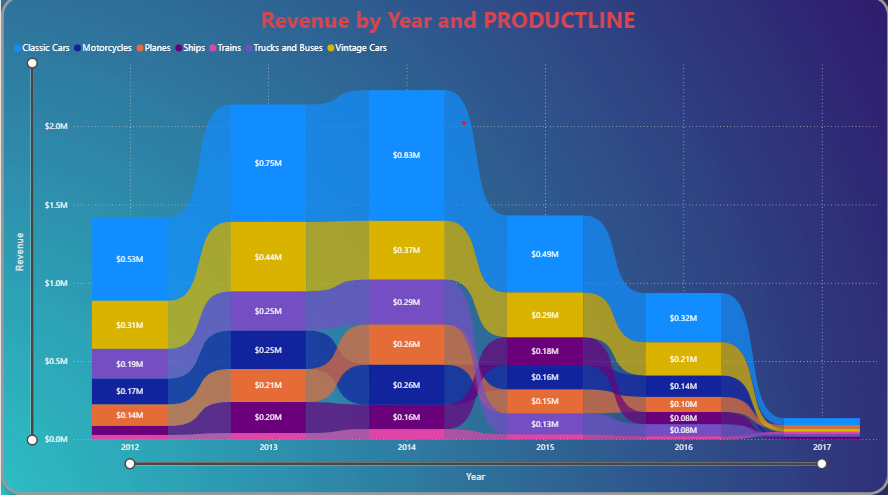

The page's visual inventory and layout, read from the dashboard file:
{"tool":"powerbi","page":{"name":"Ribbon Chart","canvas":[1280,720],"ordinal":12},"visuals":[{"type":"ribbonChart","fields":{"Category":["Calendar Table.Year"],"Series":["Vehicle Orders.PRODUCTLINE"],"Y":["Measure Table.Revenue"]},"box":[0,0,1279.8,720.2],"z":0}]}

Visuals, with their boxes in screenshot pixels (x1, y1, x2, y2), scaled from the page's 1280x720 canvas onto the 888x495 screenshot:
ribbonChart - Calendar Table.Year x Vehicle Orders.PRODUCTLINE: [left=0, top=0, right=887, bottom=494]
